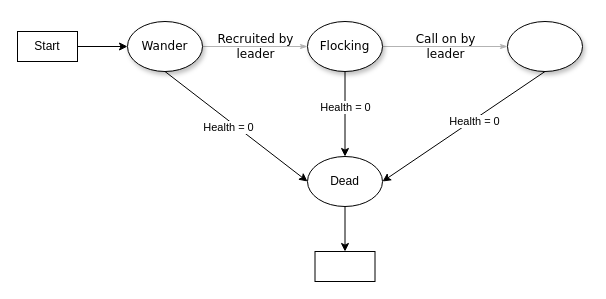
This 606x299 diagram has some shape labels left out. Each missing label, with the centre of its shape:
"End" goes at point 344,266.
"Formation" goes at point 545,47.
